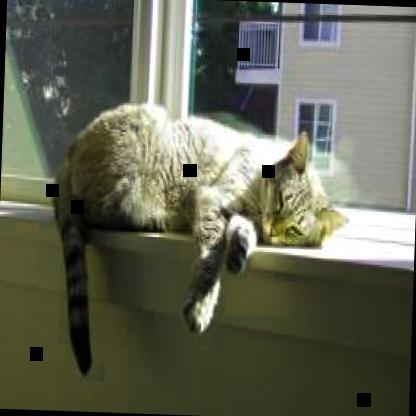cat: (47, 101, 354, 386)
